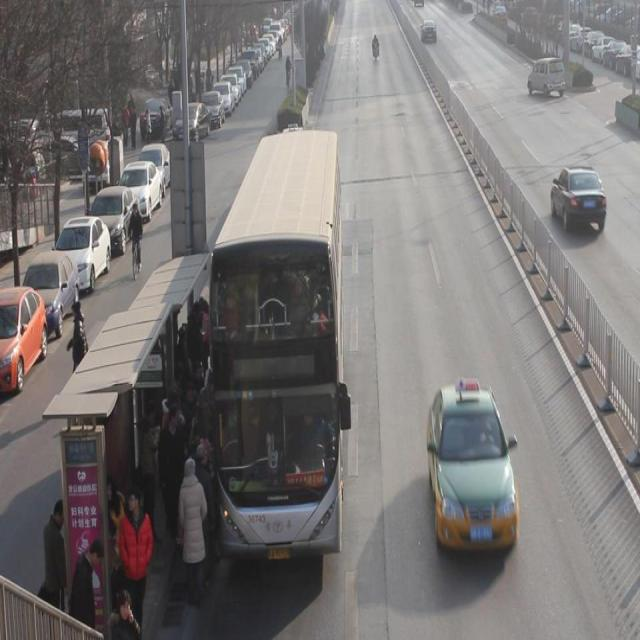car: (427, 378, 519, 558), (551, 166, 608, 237), (420, 21, 437, 47)
truck: (527, 59, 566, 101)
van: (208, 126, 342, 554)
